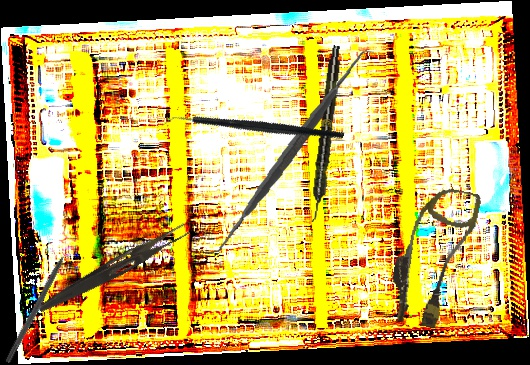Cannula: (383, 180, 483, 333)
Chopper: (160, 58, 346, 201)
Dressing Forceps: (36, 217, 191, 321)
Handpiece: (307, 44, 344, 224)
Hook Surgical: (4, 241, 75, 365)
Spatula Surgical: (191, 49, 388, 256)
